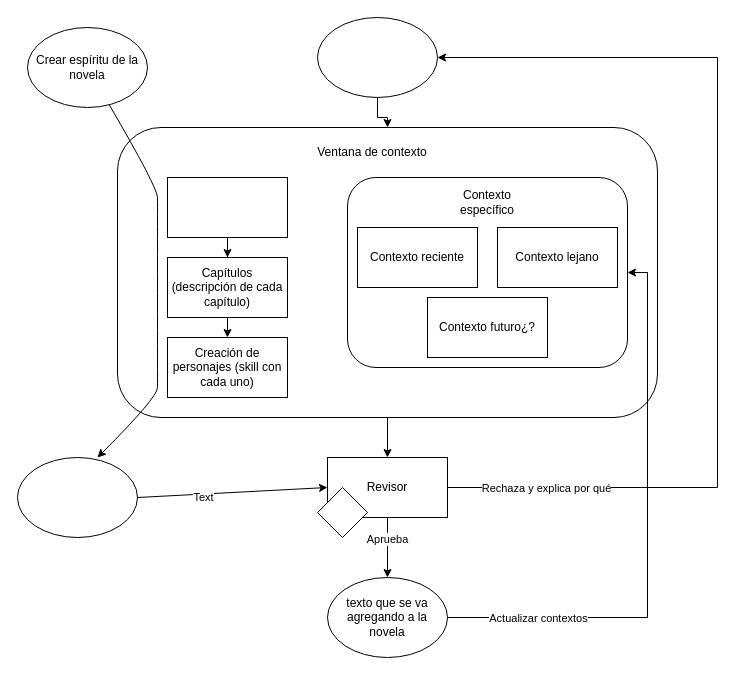
The diagram is 743 pixels wide and 675 high, and some of its shapes have lost their labels. Each missing label, with the centre of its shape:
Espíritu: the point at 77,497
Hilo completo de la novela: the point at 227,207
Métrica: the point at 342,512
Redactor: the point at 377,57
